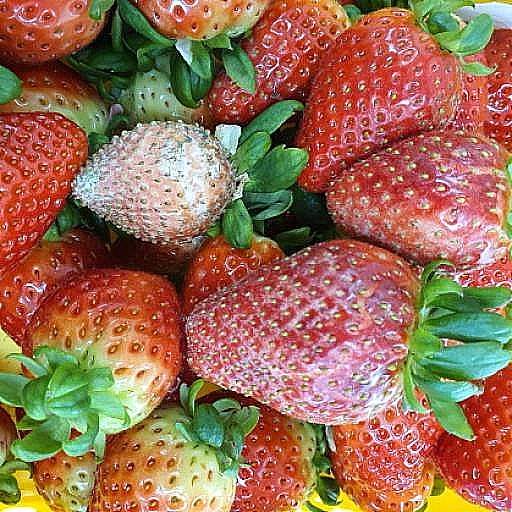Powdery Mildew Fruit: (86, 85, 328, 273), (0, 239, 187, 382), (273, 264, 442, 391)
